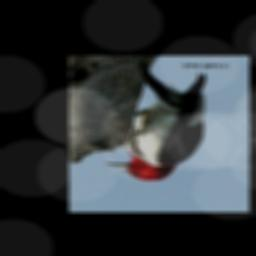Woodpecker: (101, 70, 208, 181)
